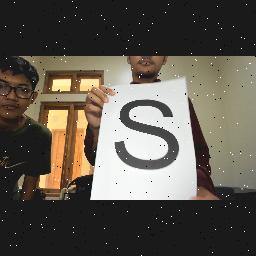s: (114, 97, 182, 173)
